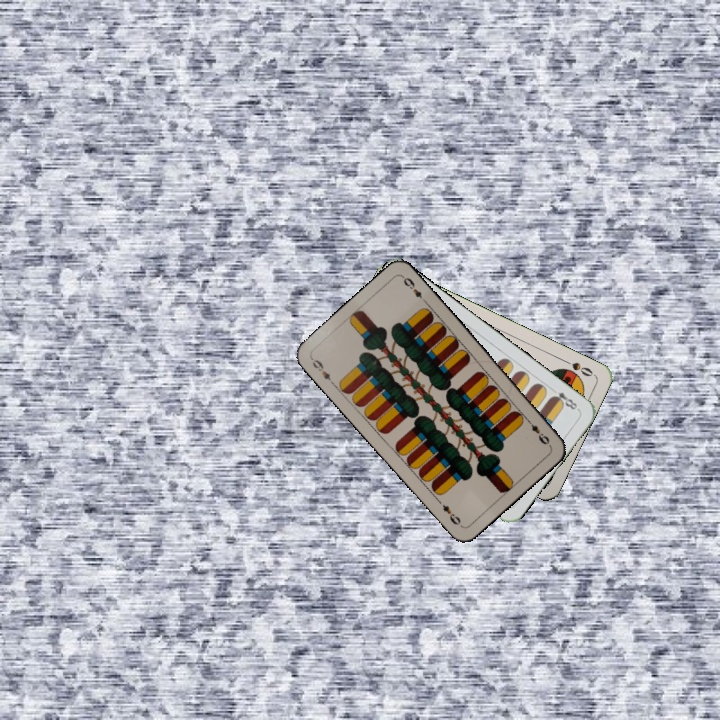E8: (547, 384, 582, 413)
E9: (523, 415, 553, 449), (307, 354, 337, 388)
SO: (559, 355, 597, 379)
